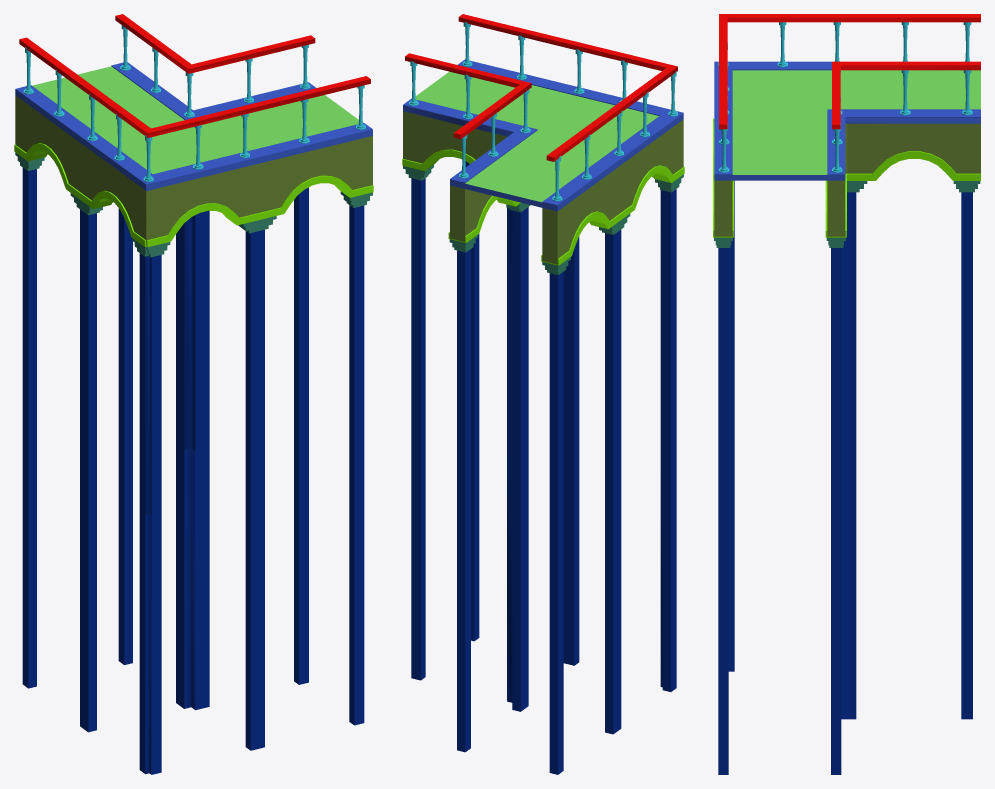
File: corner bridge.fbx
The picture shows the model from 3 angles, left to right: view 1: azimuth 30°, elevation 25°; view 2: azimuth 150°, elevation 25°; view 3: azimuth 270°, elevation 25°; orthographic projection. The views are drawn at different scales.
Visible parts, largest first — view 1: Object033, Object034, Object029, Object035; view 2: Object033, Object034, Object029, Object035; view 3: Object034, Object033, Object029, Object035.
Part boxes in pixels (left/top/right/bottom): Object033: left=15, top=152, right=372, bottom=774; Object034: left=14, top=62, right=373, bottom=247; Object029: left=19, top=14, right=370, bottom=137; Object035: left=23, top=24, right=365, bottom=182; Object033: left=403, top=161, right=683, bottom=774; Object034: left=402, top=59, right=684, bottom=265; Object029: left=405, top=14, right=677, bottom=161; Object035: left=409, top=22, right=677, bottom=201; Object034: left=713, top=61, right=980, bottom=237; Object033: left=714, top=180, right=980, bottom=774; Object029: left=719, top=14, right=980, bottom=129; Object035: left=718, top=22, right=972, bottom=172.
Bounding box in the file's own units: 208 × 208 × 560.
